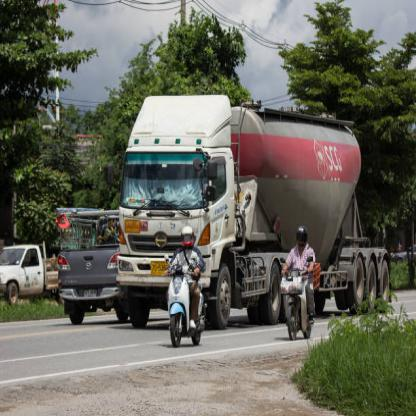Motorcycle: (158, 253, 205, 354), (275, 258, 321, 346)
